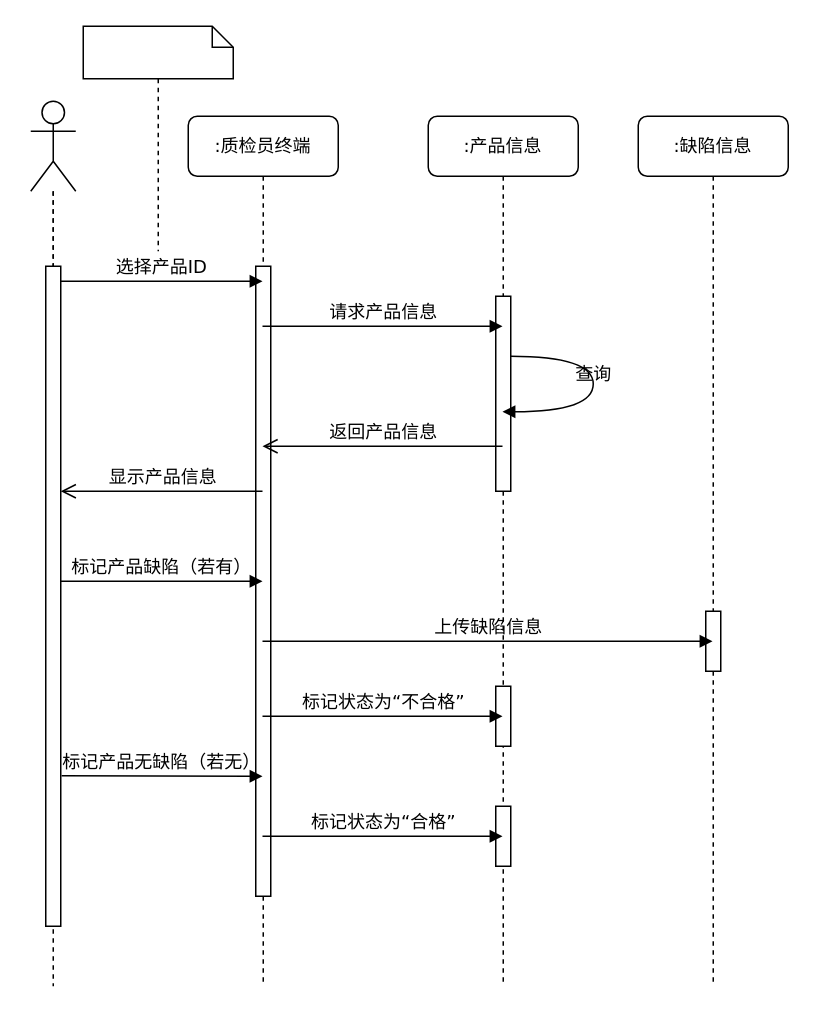
This 815x1014 diagram has some shape labels left out. The shapes that lost their labels are listed below. From the top down, each one's centre as x and y in pixels, then its label:
At (157,52): "可由扫码枪 自动录入".
At (52,145): "质检员".
